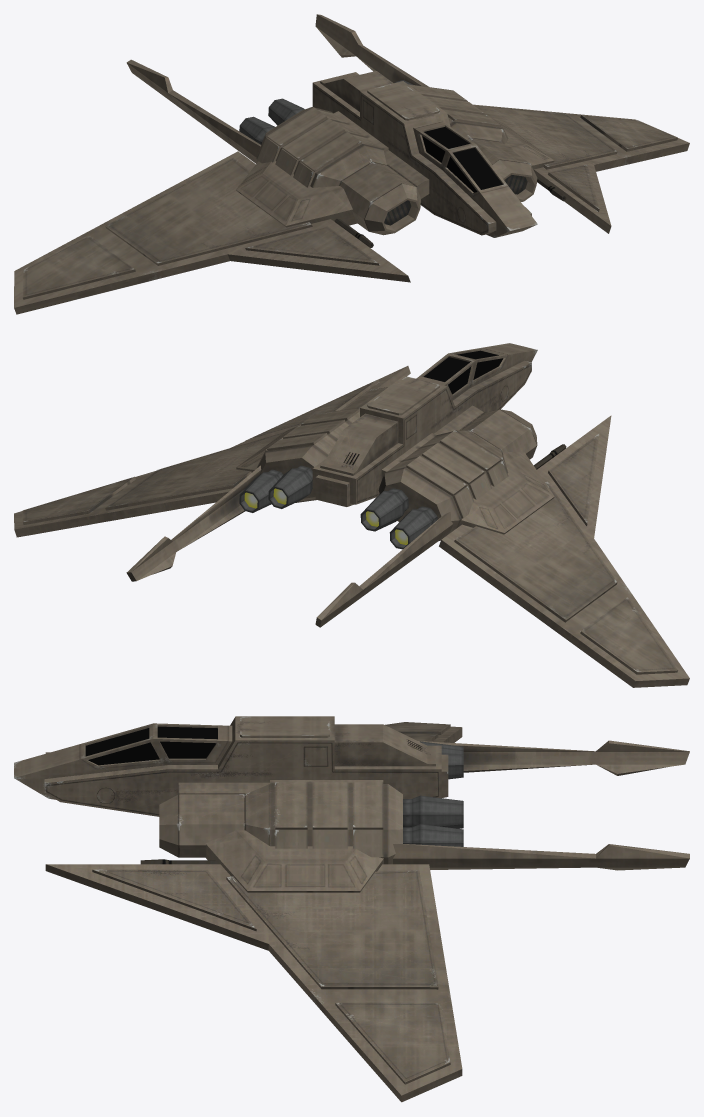
File: Rage_Fighter.obj
The picture shows the model from 3 angles, top to bottom: view 1: azimuth 30°, elevation 25°; view 2: azimuth 150°, elevation 25°; view 3: azimuth 270°, elevation 25°; orthographic projection. The views are drawn at different scales.
Visible parts, largest first — view 1: Box01; view 2: Box01; view 3: Box01.
Boxes of the visible parts, <box> form: Box01: <box>14,14,689,314</box>; Box01: <box>14,343,689,687</box>; Box01: <box>14,716,689,1102</box>.
Size of the model in its own units: 138 by 33.24 by 106.
